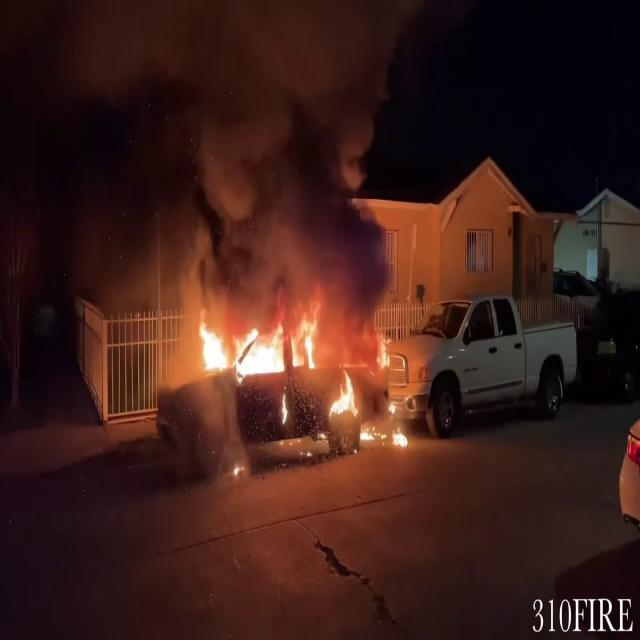Fire: (190, 302, 408, 448)
Smoke: (46, 0, 400, 318)
